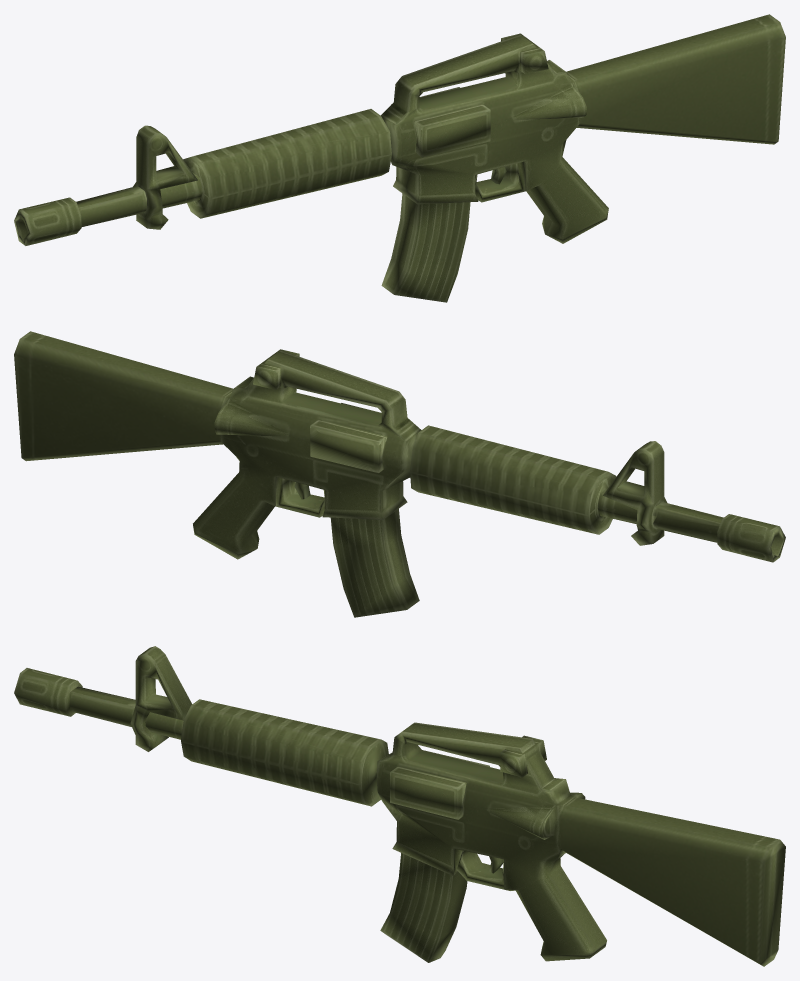
The model's file is Meshy_AI_vintage_toy_m16_rifle.glb.
3 renders of one model, top to bottom at view 1: azimuth 30°, elevation 25°; view 2: azimuth 150°, elevation 25°; view 3: azimuth 330°, elevation 25°, orthographic.
Size of the model in its own units: 0.9575 by 0.29 by 0.0977.
1 material, 1 textured.
